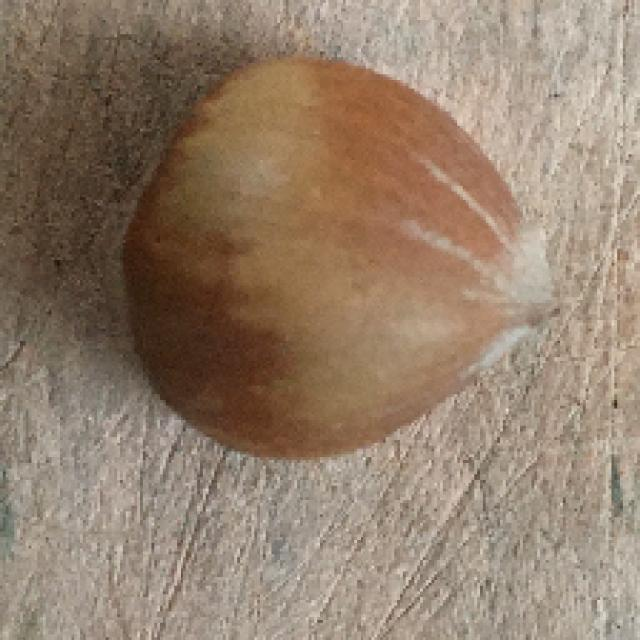damagedHazelnut: (118, 46, 559, 457)
